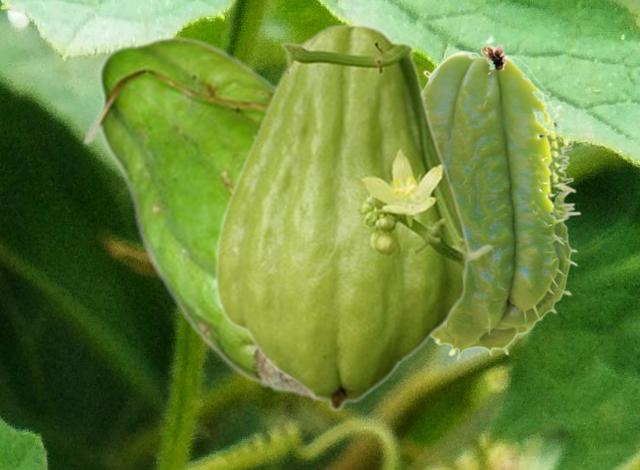sayote: (81, 35, 445, 399), (213, 23, 493, 411), (422, 43, 580, 360)
